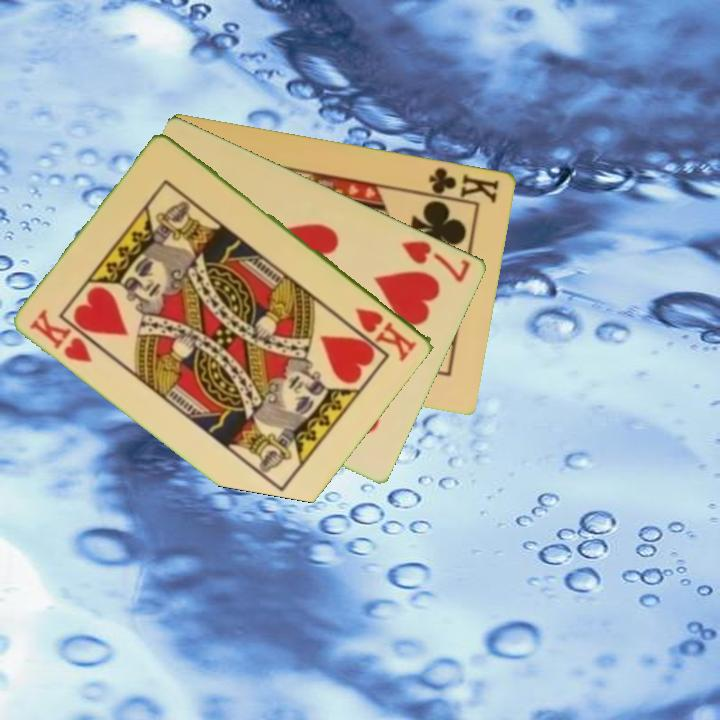7h: (398, 236, 474, 285)
Kc: (419, 163, 502, 206)
Kh: (352, 303, 421, 364), (27, 305, 96, 366)
